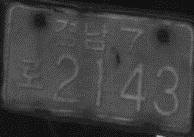1: (86, 56, 113, 107)
2: (53, 52, 81, 104)
3: (152, 64, 179, 117)
4: (119, 60, 146, 112)
7: (118, 25, 142, 53)
경남_O: (53, 18, 109, 51)
로: (16, 57, 45, 91)
